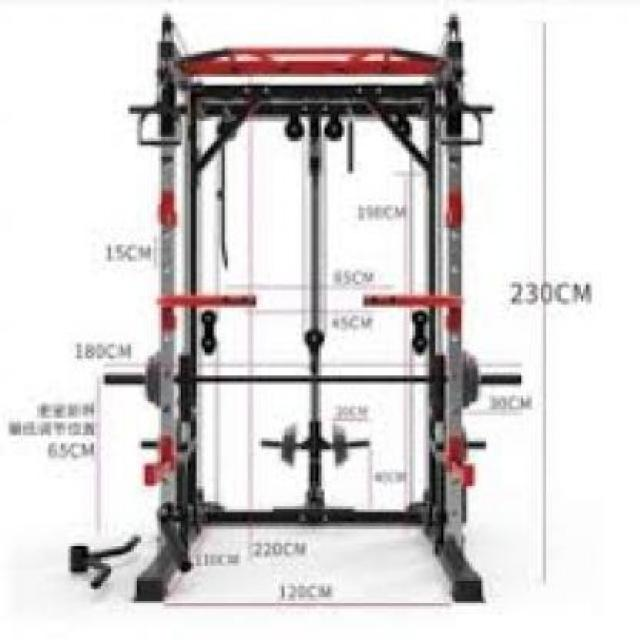smith machine: (128, 11, 523, 606)
